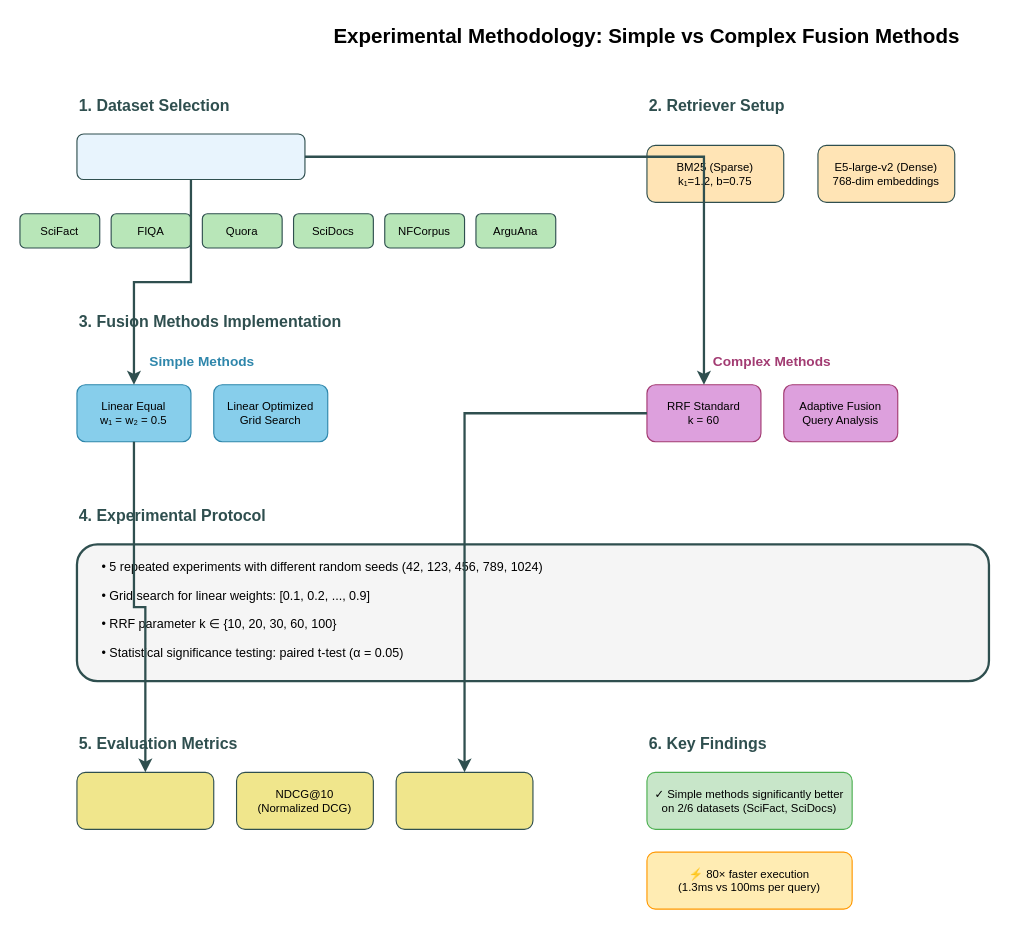
The diagram is 1010 pixels wide and 929 high, and some of its shapes have lost their labels. Each missing label, with the centre of its shape:
BEIR Benchmark Datasets: (x=190, y=156)
Latency (ms per query): (x=464, y=800)
MRR (Mean Reciprocal Rank): (x=145, y=800)
